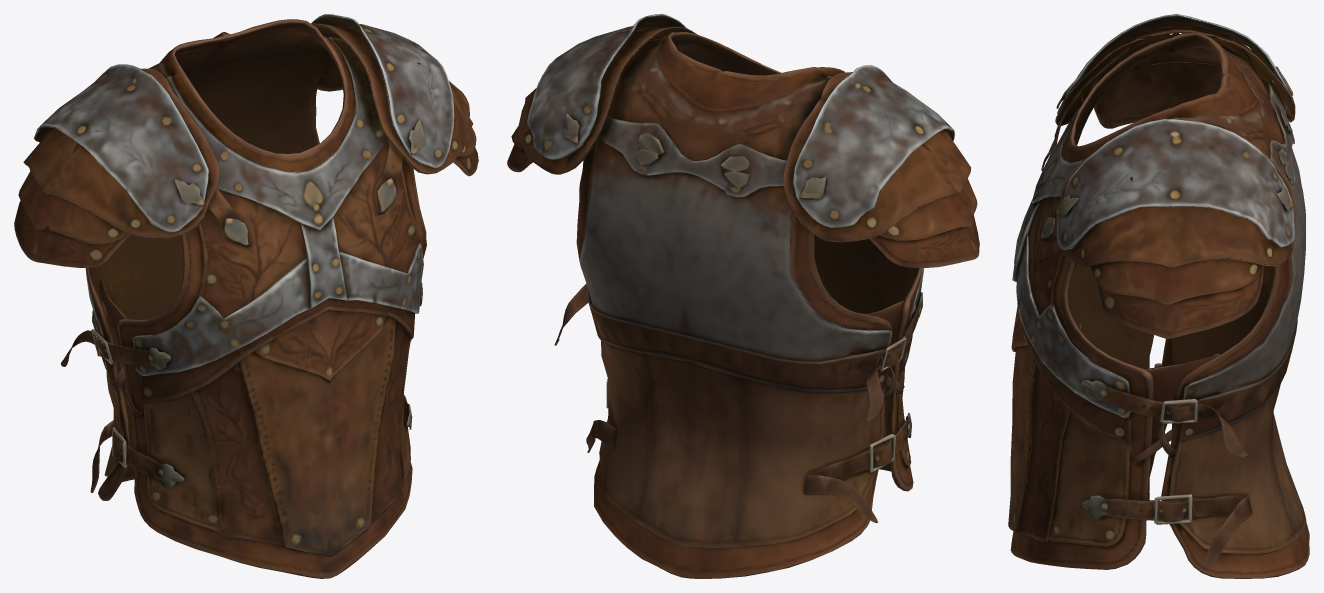
Rendered from Wear_PlateArmor.fbx.
3 renders of one model, left to right at view 1: azimuth 30°, elevation 25°; view 2: azimuth 150°, elevation 25°; view 3: azimuth 270°, elevation 25°, orthographic. The views are drawn at different scales.
Visible parts, largest first — view 1: Wear_PlateArmor; view 2: Wear_PlateArmor; view 3: Wear_PlateArmor.
Boxes of the visible parts, x1,y1,x2,y2 form: Wear_PlateArmor: (14, 14, 478, 578); Wear_PlateArmor: (507, 14, 979, 578); Wear_PlateArmor: (1008, 14, 1309, 578).
Bounding box in the file's own units: 0.3928 × 0.4 × 0.2249.
